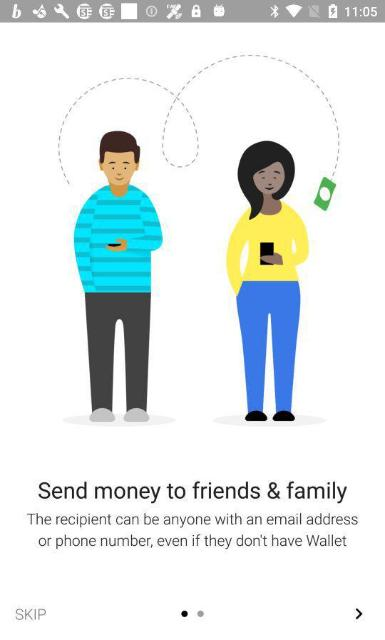Icon: (356, 607, 362, 619)
Image: (58, 54, 340, 426)
PageIndicator: (180, 610, 204, 616)
Text: (27, 512, 358, 548), (37, 480, 347, 504), (16, 607, 46, 621)
UpperTaskBar: (0, 0, 384, 22)
